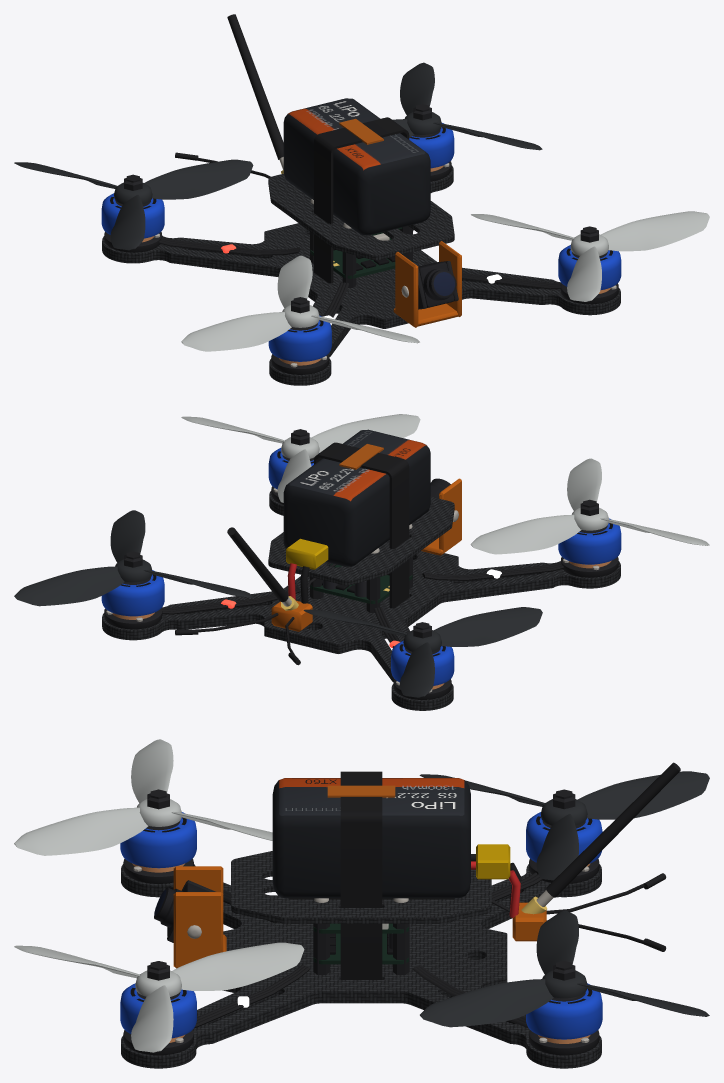
The model's file is fpv_drone.glb.
3 views of the same model, one above another, from view 1: azimuth 30°, elevation 25°; view 2: azimuth 150°, elevation 25°; view 3: azimuth 270°, elevation 25° (orthographic). The views are drawn at different scales.
Visible parts, largest first — view 1: Frame_Bottom, Battery, Rotor_RR_Prop, Rotor_FL_Prop, Rotor_FR_Prop, Frame_Top, Battery_Strap, Camera_Mount, Rotor_RL_Prop, Motor_Wires, Rotor_FR_Bell, Antenna_VTX (+7 smaller); view 2: Frame_Bottom, Battery, Rotor_RR_Prop, Rotor_RL_Prop, Rotor_FR_Prop, Frame_Top, Battery_Strap, Rotor_FL_Prop, Motor_Wires, Rotor_FR_Bell, Rotor_RL_Bell, Rotor_RR_Bell (+10 smaller); view 3: Frame_Bottom, Battery, Battery_Strap, Frame_Top, Rotor_FL_Prop, Rotor_RL_Prop, Rotor_FR_Prop, Rotor_RR_Prop, Camera_Mount, Rotor_RL_Bell, Rotor_FR_Bell, Antenna_VTX (+14 smaller).
Boxes of the visible parts, x1,y1,x2,y2 form: Frame_Bottom: (102, 165, 620, 385); Battery: (283, 98, 430, 235); Rotor_RR_Prop: (14, 159, 253, 250); Rotor_FL_Prop: (471, 211, 709, 301); Rotor_FR_Prop: (181, 255, 419, 351); Frame_Top: (268, 173, 454, 260); Battery_Strap: (314, 117, 409, 283); Camera_Mount: (393, 241, 461, 327); Rotor_RL_Prop: (392, 62, 542, 150); Motor_Wires: (159, 237, 561, 317); Rotor_FR_Bell: (268, 315, 331, 361); Antenna_VTX: (227, 14, 283, 173); Frame_Bottom: (102, 491, 620, 710); Battery: (283, 429, 430, 566); Rotor_RR_Prop: (303, 607, 542, 697); Rotor_RL_Prop: (14, 510, 252, 606); Rotor_FR_Prop: (470, 458, 709, 554); Frame_Top: (268, 496, 454, 585); Battery_Strap: (314, 442, 409, 608); Rotor_FL_Prop: (181, 414, 420, 502); Motor_Wires: (161, 562, 563, 647); Rotor_FR_Bell: (558, 518, 621, 564); Rotor_RL_Bell: (101, 570, 164, 616); Rotor_RR_Bell: (391, 640, 454, 685); Frame_Bottom: (121, 864, 601, 1068); Battery: (272, 778, 470, 898); Battery_Strap: (327, 771, 395, 979); Frame_Top: (231, 851, 491, 923); Rotor_FL_Prop: (14, 942, 304, 1052); Rotor_RL_Prop: (420, 910, 709, 1027); Rotor_FR_Prop: (14, 739, 272, 855); Rotor_RR_Prop: (419, 771, 709, 880); Camera_Mount: (173, 866, 226, 968); Rotor_RL_Bell: (526, 983, 602, 1039); Rotor_FR_Bell: (120, 812, 196, 868); Antenna_VTX: (521, 762, 680, 914).
Size of the model in its own units: 0.2826 by 0.088 by 0.267.
25 materials, 2 textured.
